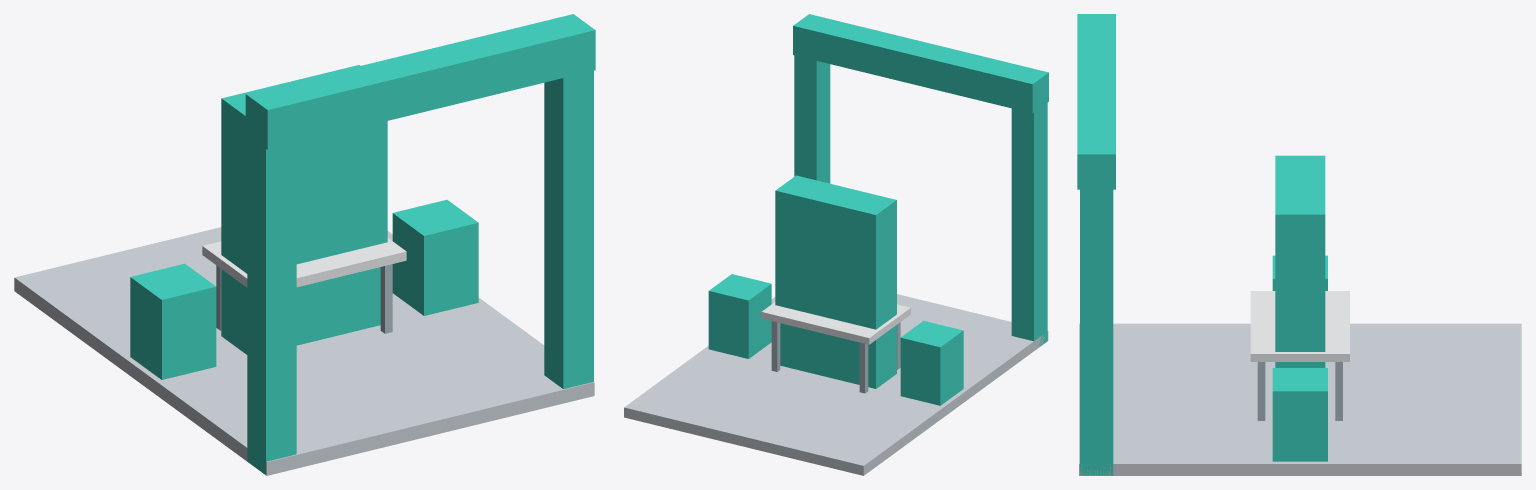
The picture shows the model from 3 angles, left to right: view 1: azimuth 30°, elevation 25°; view 2: azimuth 150°, elevation 25°; view 3: azimuth 270°, elevation 25°; orthographic projection. The views are drawn at different scales.
Parts seen in each view (by area): view 1: Exhibition Booth Concept; view 2: Exhibition Booth Concept; view 3: Exhibition Booth Concept.
Part boxes in pixels (x1,y1,x2,y2): Exhibition Booth Concept: [14, 14, 595, 475]; Exhibition Booth Concept: [624, 14, 1048, 475]; Exhibition Booth Concept: [1077, 14, 1521, 475].
Size of the model in its own units: 3 by 3.2 by 4.02.
